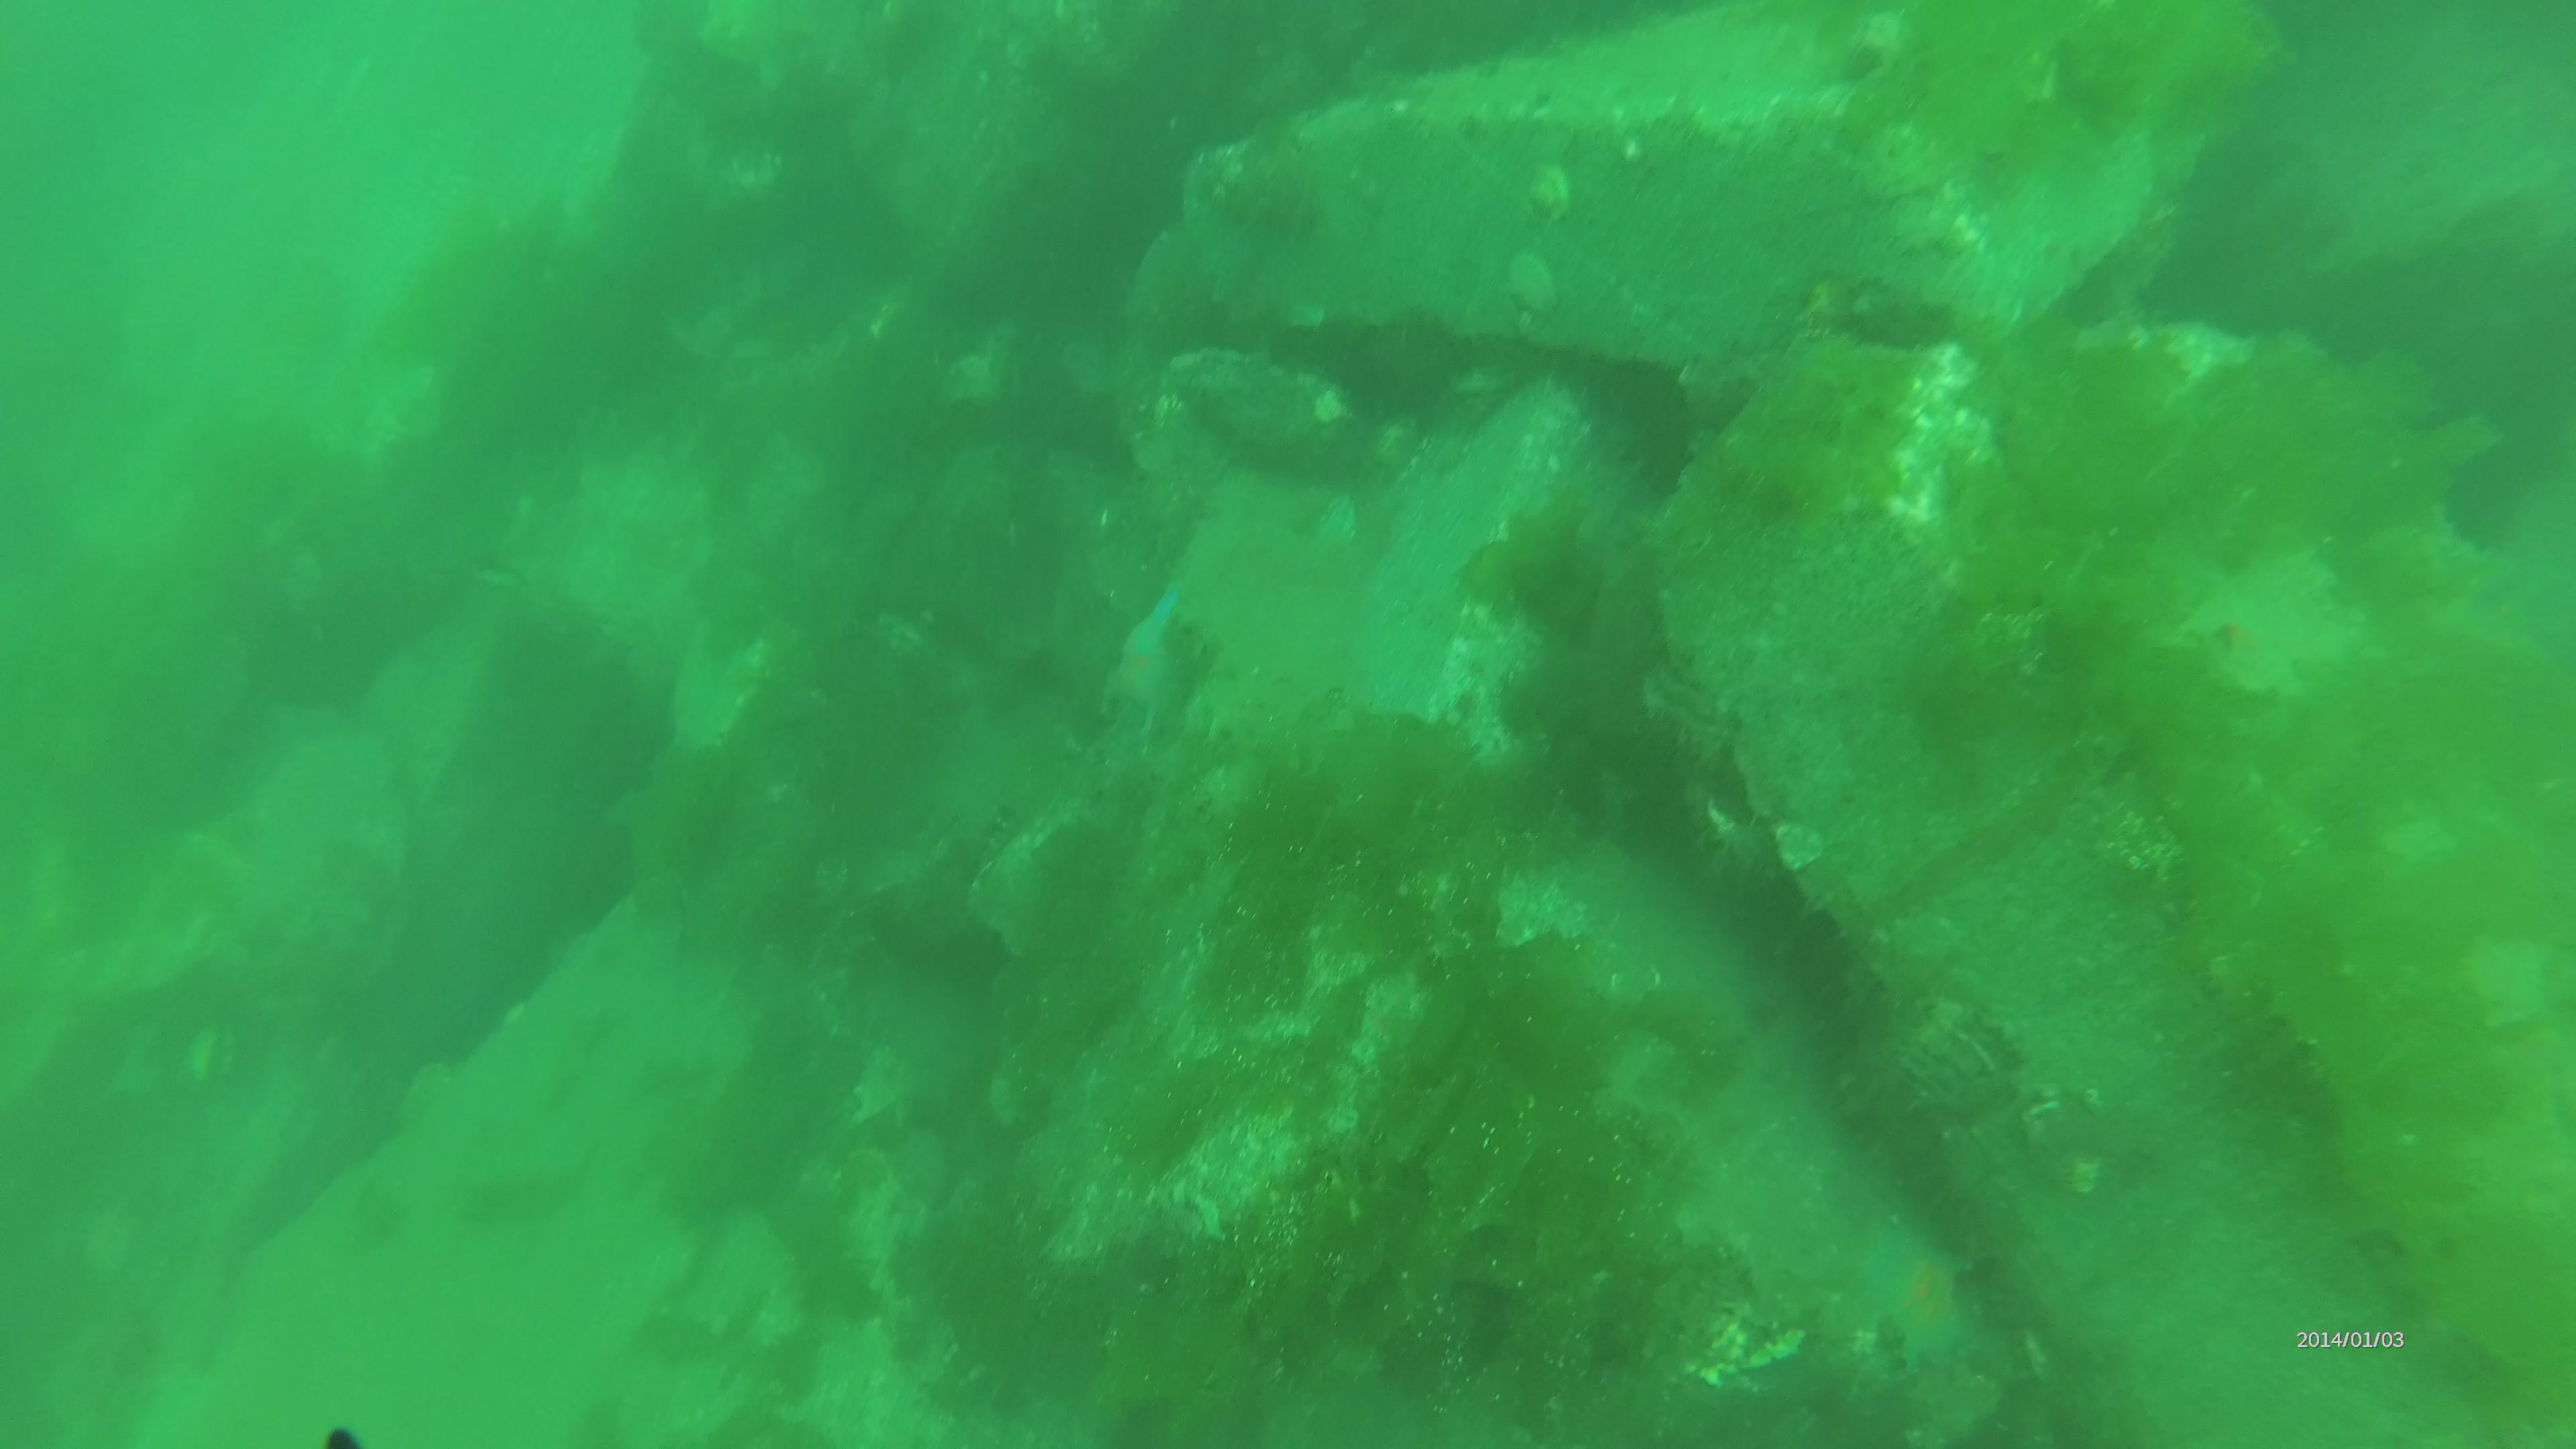starfish: (2151, 550, 2357, 708), (780, 1327, 957, 1447), (1842, 1224, 1976, 1368), (1099, 580, 1194, 720)
